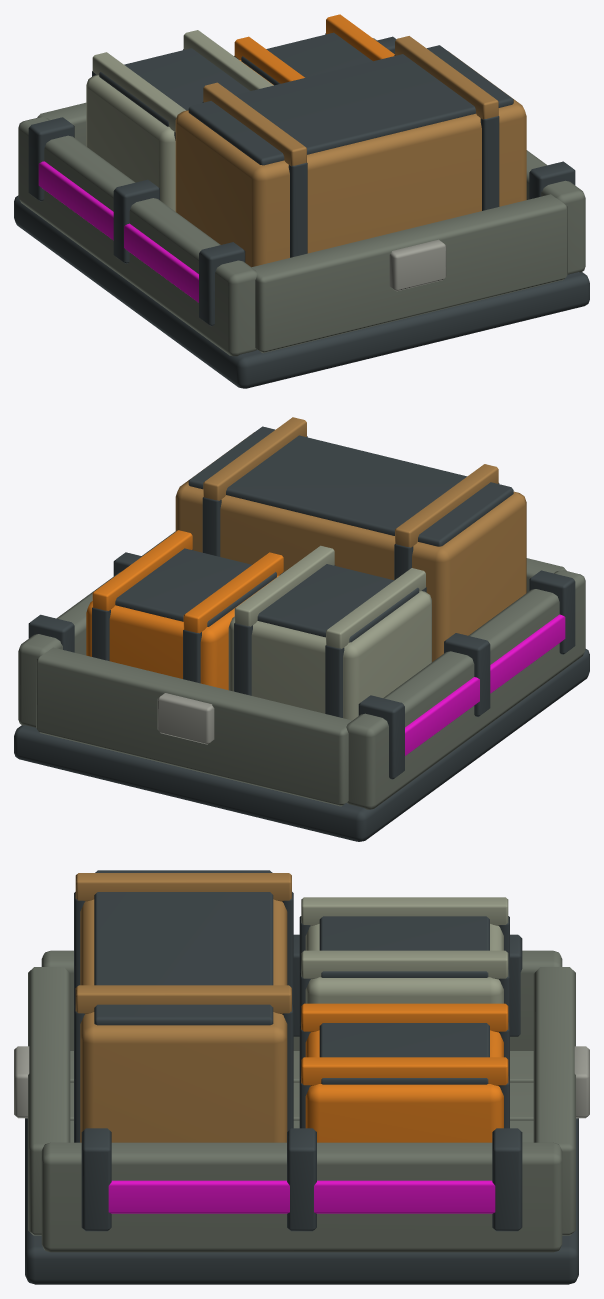
The model's file is military-truck-cargo-loaded.glb.
The picture shows the model from 3 angles, top to bottom: view 1: azimuth 30°, elevation 25°; view 2: azimuth 150°, elevation 25°; view 3: azimuth 270°, elevation 25°; orthographic projection. The views are drawn at different scales.
Parts seen in each view (by area): view 1: TurretShell; view 2: TurretShell; view 3: TurretShell.
Part boxes in pixels (x1,y1,x2,y2): TurretShell: [14, 14, 589, 388]; TurretShell: [14, 417, 589, 841]; TurretShell: [14, 870, 589, 1284].
Bounding box in the file's own units: 1.27 × 0.69 × 1.43.
